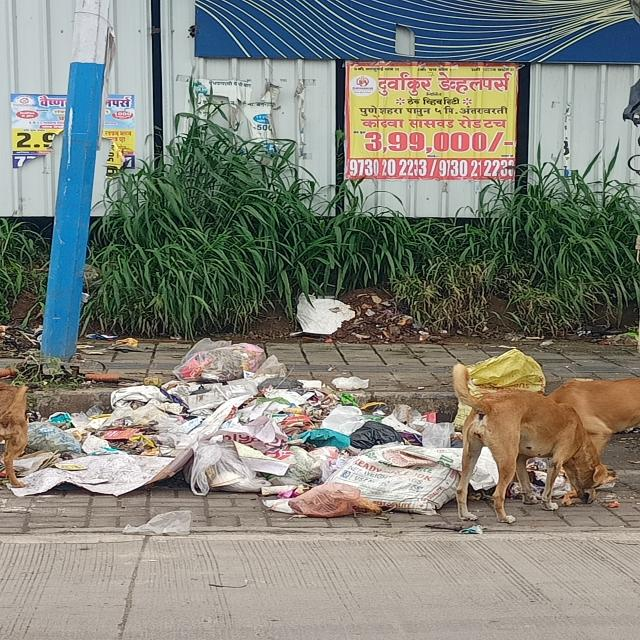garbage: (21, 347, 524, 524)
